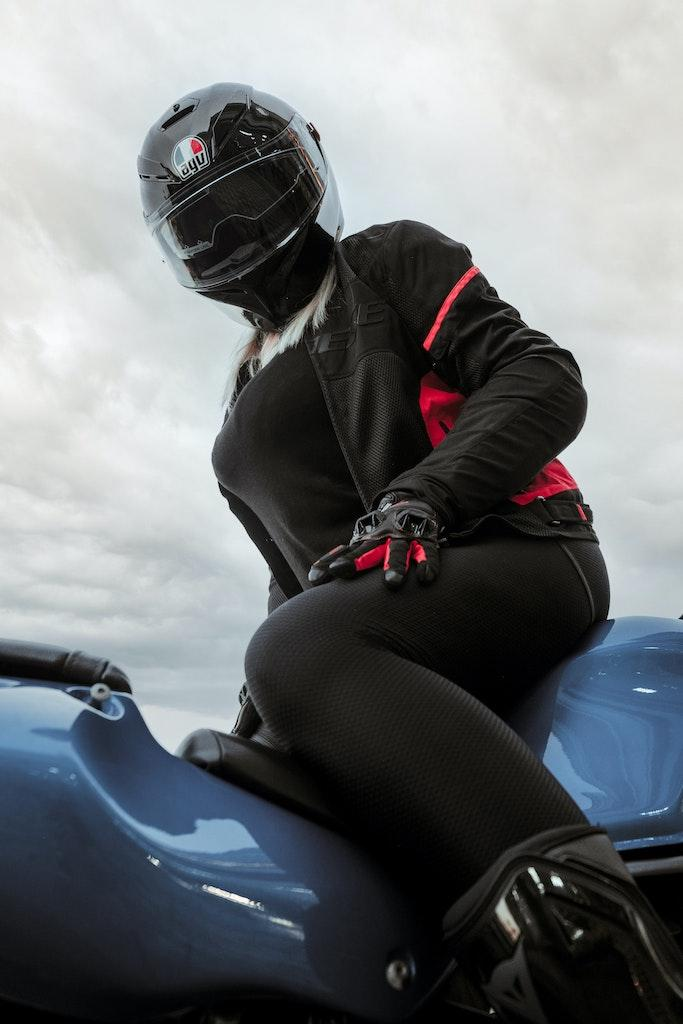helmet: (136, 81, 346, 336)
